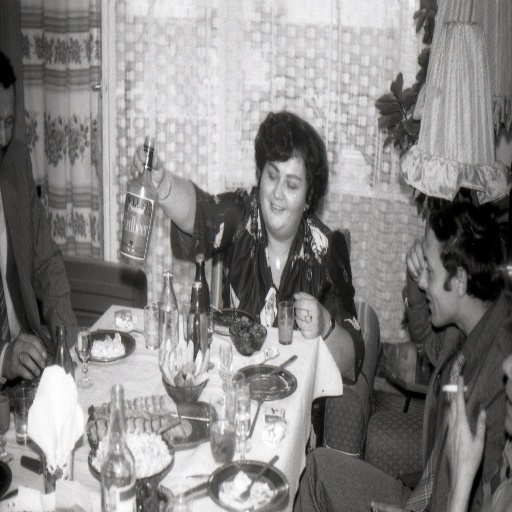hand: (445, 376, 487, 493), (125, 140, 166, 198), (5, 334, 41, 399), (292, 291, 324, 339), (404, 237, 425, 286)
